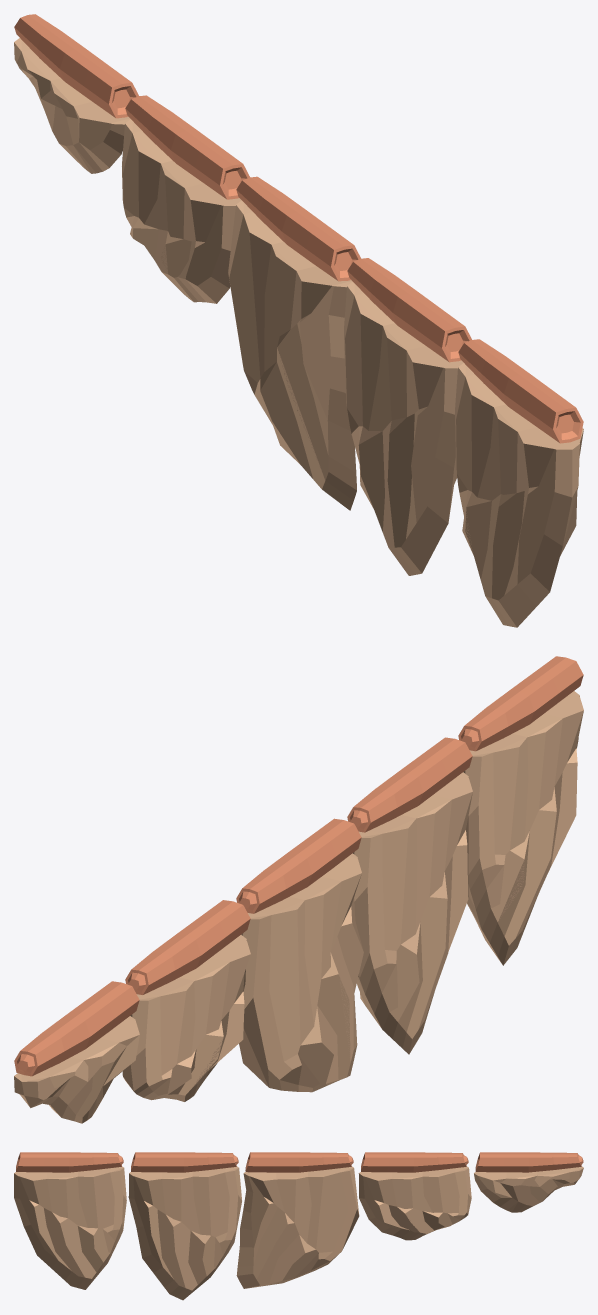
The model's file is WINGS.glb.
The picture shows the model from 3 angles, top to bottom: view 1: azimuth 30°, elevation 25°; view 2: azimuth 150°, elevation 25°; view 3: azimuth 270°, elevation 25°; orthographic projection. The views are drawn at different scales.
Visible parts, largest first — view 1: Wing.003, Wing.002, Wing.001, Wing.004, Wing.006; view 2: Wing.003, Wing.002, Wing.001, Wing.004, Wing.006; view 3: Wing.003, Wing.002, Wing.001, Wing.004, Wing.006.
Boxes of the visible parts, x1,y1,x2,y2 form: Wing.003: (228,176,360,510); Wing.002: (344,258,471,575); Wing.001: (455,339,583,627); Wing.004: (122,95,249,303); Wing.006: (14,14,138,173); Wing.003: (236,818,363,1092); Wing.002: (347,737,472,1054); Wing.001: (458,656,583,965); Wing.004: (122,900,250,1101); Wing.006: (14,981,139,1123); Wing.003: (236,1152,359,1288); Wing.002: (128,1152,241,1300); Wing.001: (14,1152,126,1289); Wing.004: (358,1152,471,1240); Wing.006: (474,1152,583,1212).
Size of the model in its own units: 3.23 by 14.02 by 49.59.
